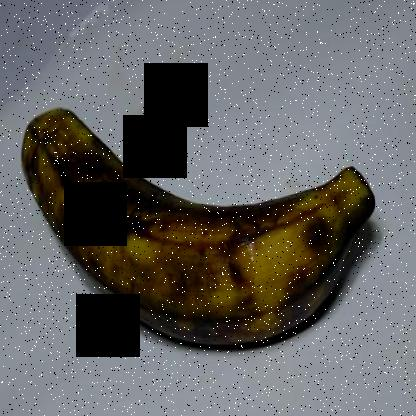overripe: (6, 91, 382, 365)
